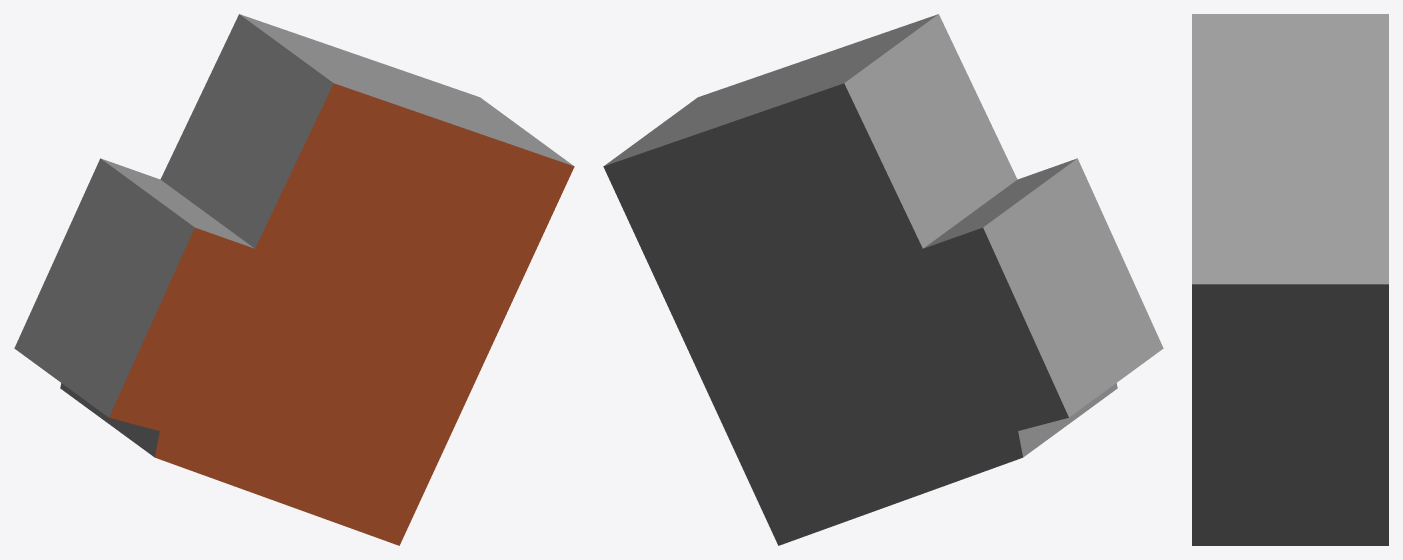
The model's file is construction_1650_assumed_A_Casa_h6m.obj.
3 renders of one model, left to right at view 1: azimuth 30°, elevation 25°; view 2: azimuth 150°, elevation 25°; view 3: azimuth 270°, elevation 25°, orthographic. The views are drawn at different scales.
Visible parts, largest first — view 1: construction_1650_assumed_A_Casa; view 2: construction_1650_assumed_A_Casa; view 3: construction_1650_assumed_A_Casa.
Part boxes in pixels (box(x1,y1,x2,y2)): construction_1650_assumed_A_Casa: box(14, 14, 574, 545); construction_1650_assumed_A_Casa: box(603, 14, 1163, 545); construction_1650_assumed_A_Casa: box(1192, 14, 1388, 545).
Size of the model in its own units: 17.06 by 16.76 by 6.
